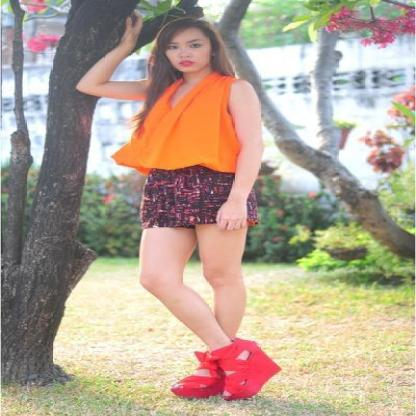shirt: (112, 73, 242, 174)
shoe: (170, 338, 280, 400)
shorts: (135, 164, 234, 241)
